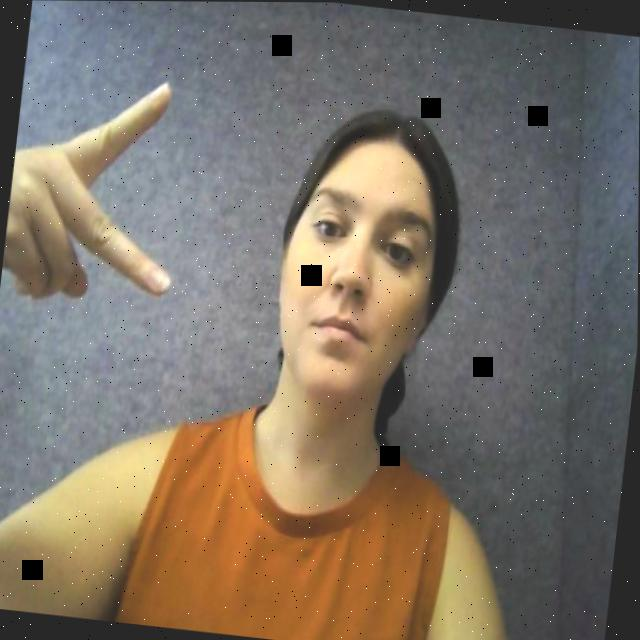Scissors: (0, 64, 201, 316)
